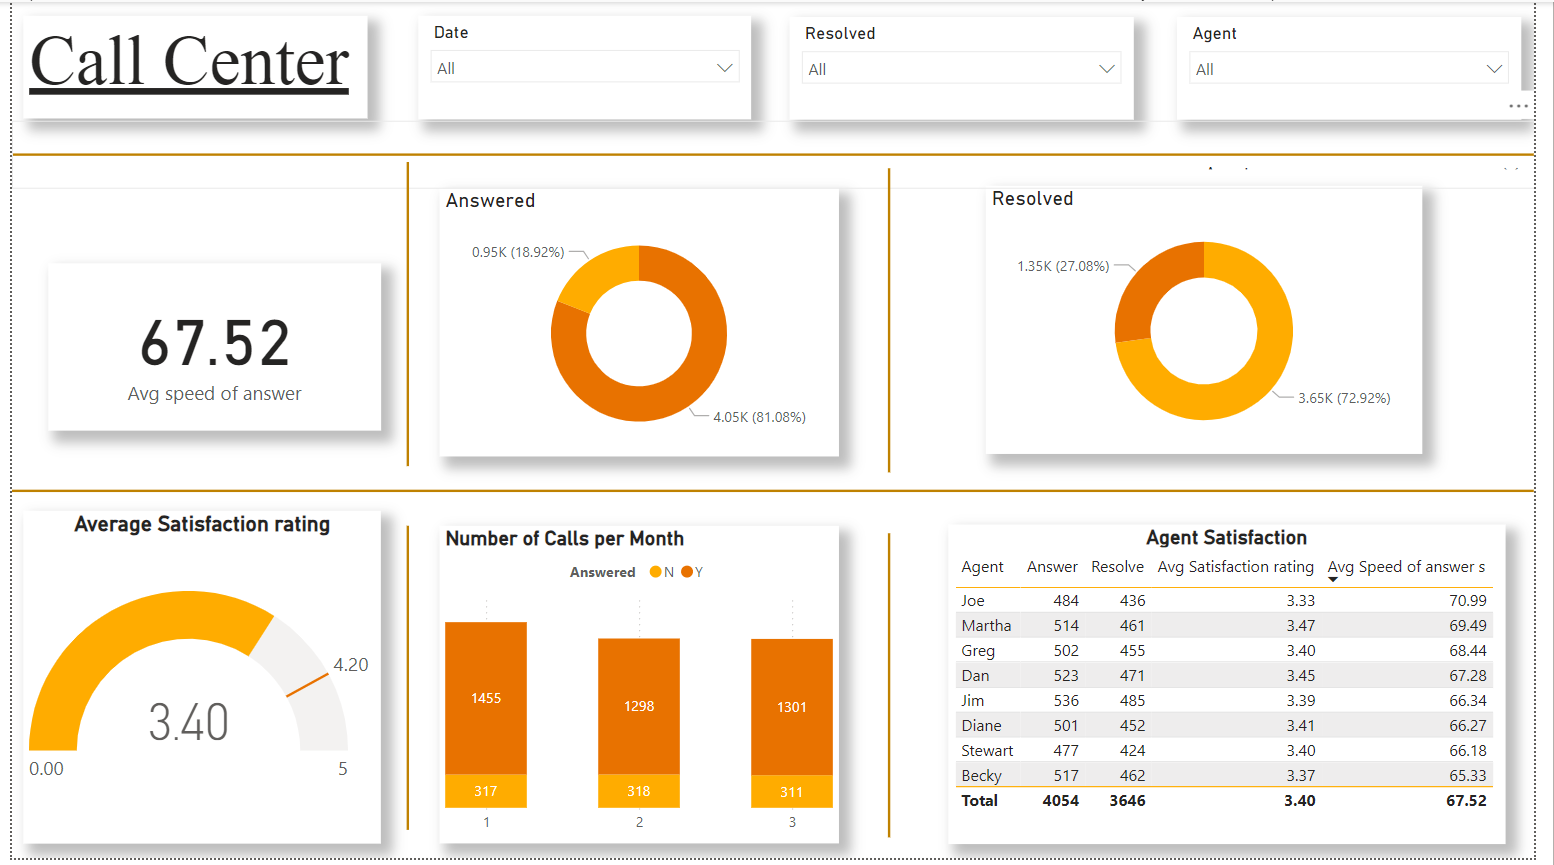

The dashboard page shown, as its layout file describes it:
{"tool":"powerbi","page":{"name":"Page 1","canvas":[1280,720],"ordinal":0},"visuals":[{"type":"card","fields":{"Values":["Measure.Avg speed of answer"]},"box":[30.2,219.8,280.2,140.7],"z":0},{"type":"slicer","fields":{"Values":["Sheet1.Resolved"]},"box":[653.5,12.8,289.5,86],"z":1000},{"type":"slicer","fields":{"Values":["Sheet1.Agent"]},"box":[980.2,12.8,289.5,86],"z":2000},{"type":"slicer","fields":{"Values":["Sheet1.Agent"]},"box":[990.7,130.4,289.5,9.6],"z":3000},{"type":"slicer","fields":{"Values":["Sheet1.Date"]},"box":[341.9,11.6,280.2,87.2],"z":4000},{"type":"gauge","title":"Average Satisfaction rating ","fields":{"Y":["Sheet1.Satisfaction rating"],"MaxValue":["Sheet1.Satisfaction rating"]},"box":[9.3,427.9,301.2,280.2],"z":5000},{"type":"donutChart","title":"Answered ","fields":{"Y":["Sheet1.Answered (Y/N)"],"Category":["Sheet1.Answered (Y/N)"]},"box":[359.3,157,336,225.6],"z":6000},{"type":"donutChart","title":" Resolved","fields":{"Category":["Sheet1.Resolved"],"Y":["Sheet1.Resolved"]},"box":[818.6,154.7,367.4,225.6],"z":7000},{"type":"columnChart","title":"Number of Calls per Month","fields":{"Category":["Sheet1.year Hierarchy.Month"],"Series":["Sheet1.Answered (Y/N)"],"Y":["Sheet1.Answered (Y/N)"]},"box":[359.3,440.7,336,267.4],"z":8000},{"type":"tableEx","title":"Agent Satisfaction","fields":{"Values":["Sheet1.Agent","Measure.Answer","Measure.Resolve","Sheet1.Satisfaction rating","Sheet1.Speed of answer in seconds"]},"box":[787.2,439.5,468.6,268.6],"z":9000},{"type":"textbox","box":[9.6,11.5,289.5,86.4],"z":10000},{"type":"shape","box":[0,100,1280.2,57],"z":11000},{"type":"shape","box":[0,382.6,1280.2,57],"z":12000},{"type":"shape","box":[182.6,134.9,300,255.8],"z":13000},{"type":"shape","box":[182.6,440.7,300,255.8],"z":14000},{"type":"shape","box":[587.2,139.5,300,255.8],"z":15000},{"type":"shape","box":[587.2,446.5,300,255.8],"z":16000}]}

Visuals, with their boxes in screenshot pixels (x1, y1, x2, y2), scaled from the page's 1280x720 canvas onto the 1554x865 screenshot:
card - Measure.Avg speed of answer: [37,264,377,433]
slicer - Sheet1.Resolved: [793,15,1145,119]
slicer - Sheet1.Agent: [1190,15,1541,119]
slicer - Sheet1.Agent: [1203,157,1553,168]
slicer - Sheet1.Date: [415,14,755,119]
"Average Satisfaction rating " gauge: [11,514,377,851]
"Answered " donutChart: [436,189,844,460]
" Resolved" donutChart: [994,186,1440,457]
"Number of Calls per Month" columnChart: [436,529,844,851]
"Agent Satisfaction" tableEx: [956,528,1525,851]
textbox: [12,14,363,118]
shape: [0,120,1553,189]
shape: [0,460,1553,528]
shape: [222,162,586,469]
shape: [222,529,586,837]
shape: [713,168,1077,475]
shape: [713,536,1077,844]
